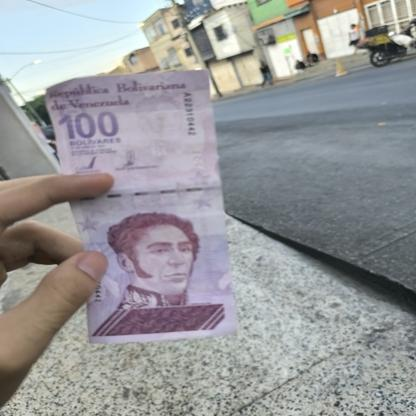one_hundred-front-vef: (46, 69, 236, 344)
